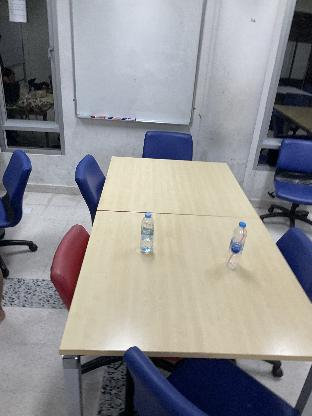Plastic Bottle: (227, 222, 247, 270), (140, 212, 154, 256)
